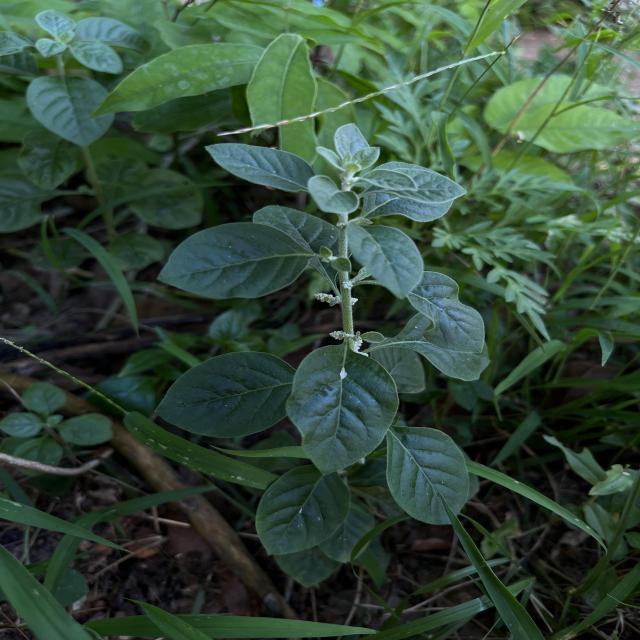Aerva lanata: (284, 343, 402, 478), (152, 348, 300, 439), (154, 220, 316, 302), (370, 267, 488, 355), (252, 463, 354, 558), (384, 424, 472, 526), (200, 140, 318, 194)
